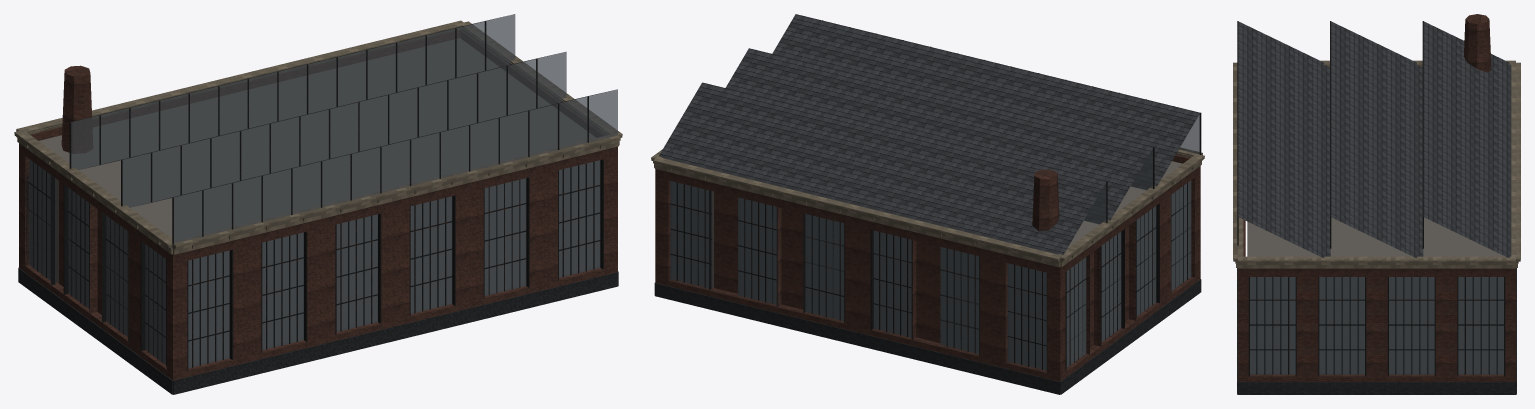
The model's file is B_sawmill.glb.
The picture shows the model from 3 angles, left to right: view 1: azimuth 30°, elevation 25°; view 2: azimuth 150°, elevation 25°; view 3: azimuth 270°, elevation 25°; orthographic projection. The views are drawn at different scales.
Visible parts, largest first — view 1: B_sawmill; view 2: B_sawmill; view 3: B_sawmill.
Boxes of the visible parts, left/top/right/bottom form: B_sawmill: left=14, top=14, right=622, bottom=394; B_sawmill: left=651, top=14, right=1204, bottom=394; B_sawmill: left=1233, top=14, right=1520, bottom=394.
Size of the model in its own units: 30.64 by 14 by 18.64.
Materials: 7 (5 with a texture image).
